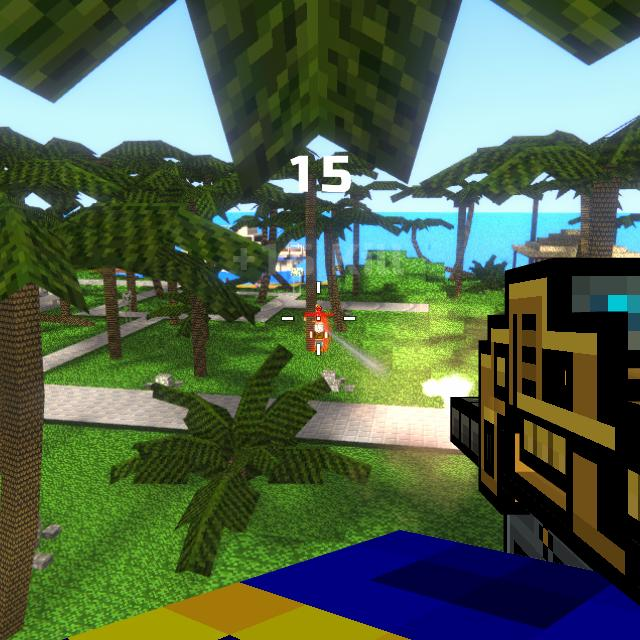Enemy: (310, 322, 328, 353)
